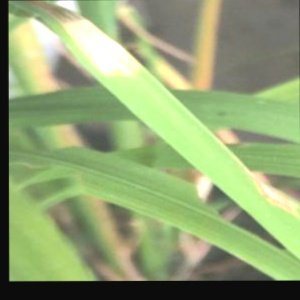Brown_Spot: (249, 169, 295, 224)
